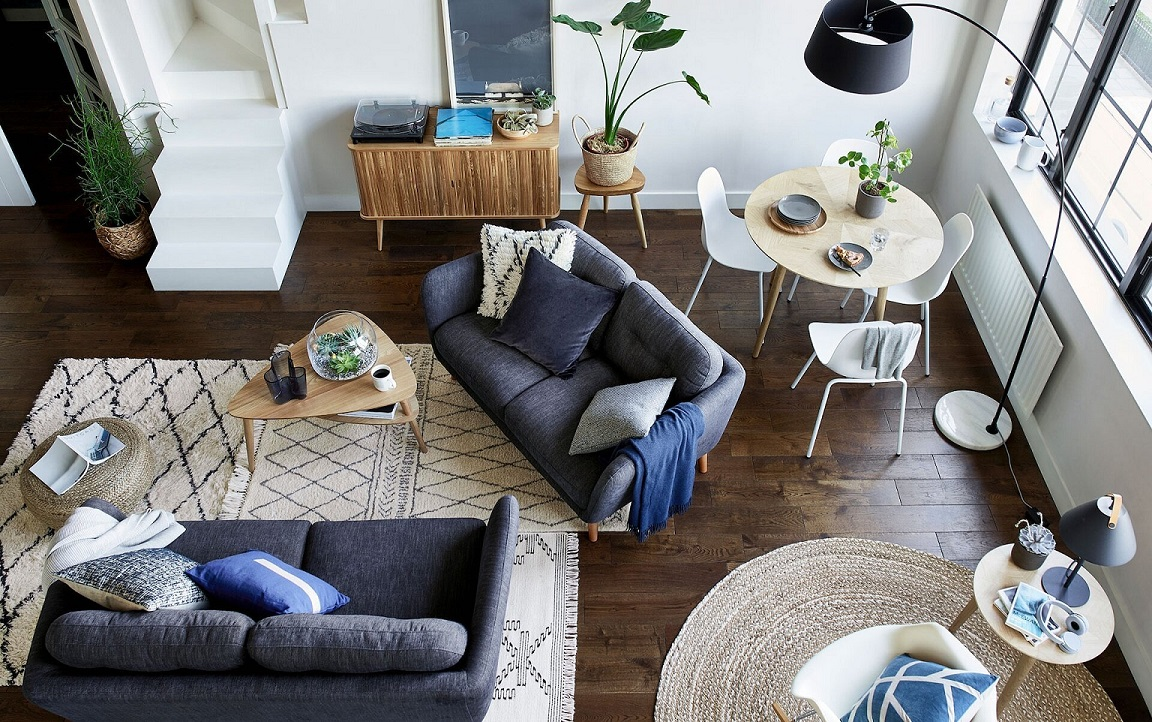Bantal: (495, 248, 612, 374), (203, 545, 341, 619), (57, 552, 208, 611), (869, 652, 988, 722), (478, 222, 567, 310), (568, 379, 672, 447)
Buku: (27, 418, 123, 497), (992, 582, 1054, 649)
Gelas: (1014, 130, 1054, 180), (371, 365, 399, 394)
Sova: (40, 499, 511, 721), (432, 231, 708, 470)
Tanaman: (563, 1, 661, 184), (57, 73, 150, 253), (856, 124, 892, 218)
gelas: (872, 225, 892, 257)
kursi: (797, 317, 918, 470), (687, 162, 773, 319)
lampu: (799, 1, 925, 98), (1055, 489, 1140, 616)
lukisan: (437, 1, 560, 113)
meja: (742, 158, 947, 368)
tanaman: (529, 87, 559, 127)
